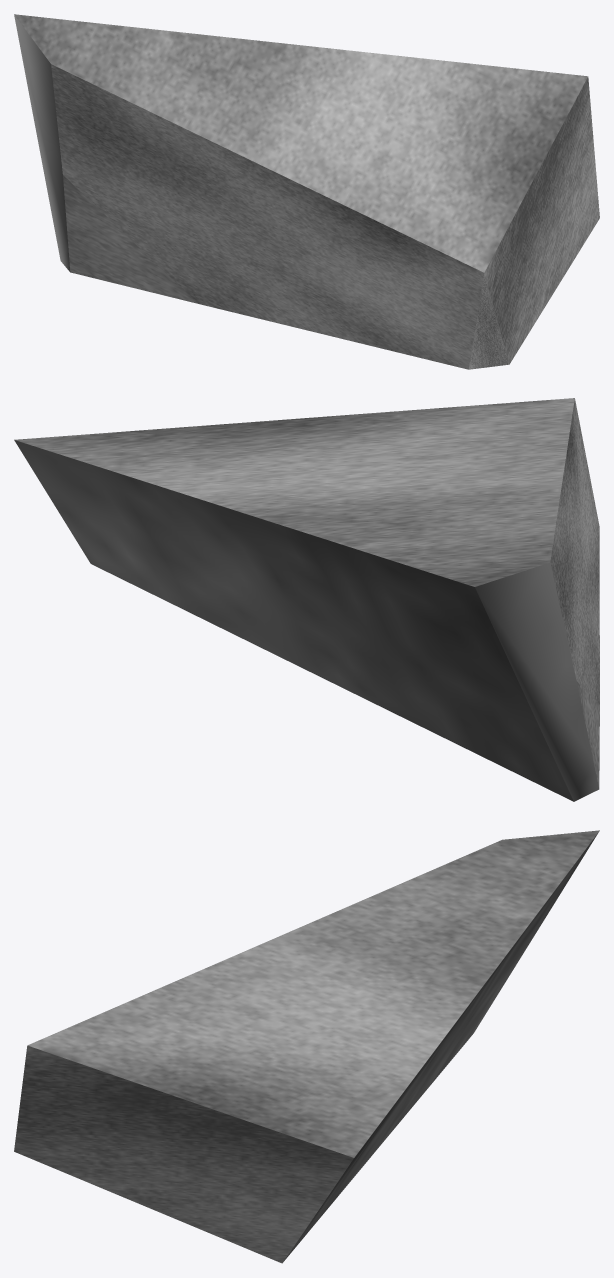
Rendered from leg_3_cell_003.fbx.
3 renders of one model, top to bottom at view 1: azimuth 30°, elevation 25°; view 2: azimuth 150°, elevation 25°; view 3: azimuth 270°, elevation 25°, orthographic. The views are drawn at different scales.
Visible parts, largest first — view 1: leg_3_cell.003; view 2: leg_3_cell.003; view 3: leg_3_cell.003.
Part boxes in pixels (x1,y1,x2,y2): leg_3_cell.003: (14, 14, 599, 369); leg_3_cell.003: (14, 398, 599, 801); leg_3_cell.003: (14, 830, 599, 1263).
Bounding box in the file's own units: 15.67 × 6.29 × 15.9.
